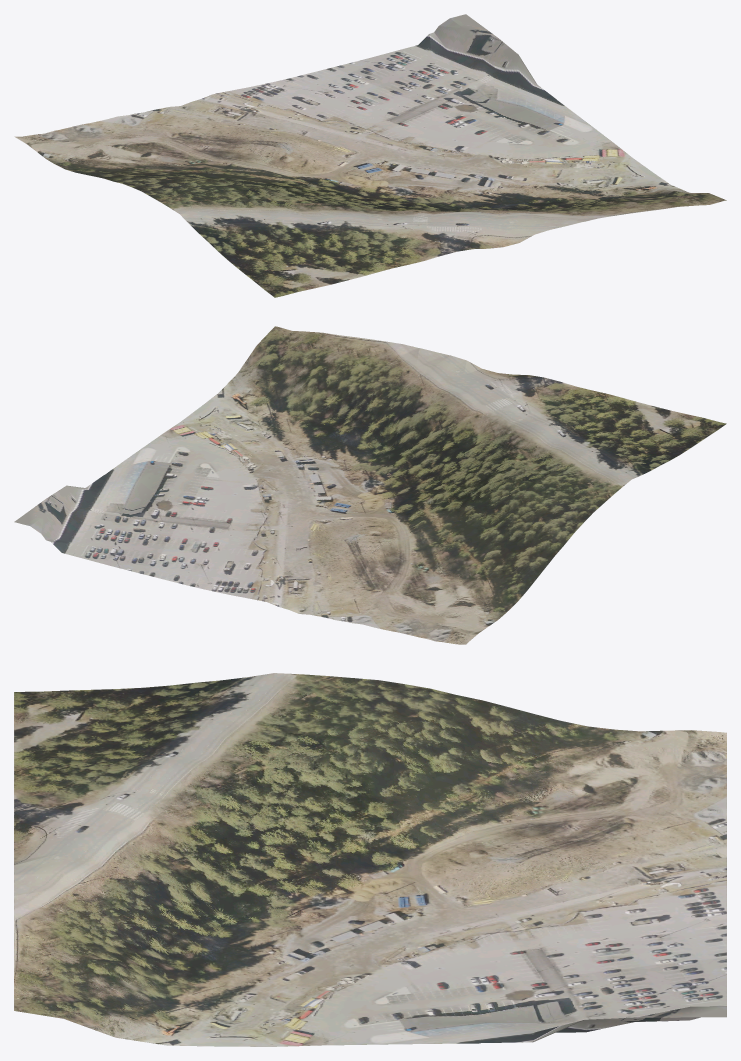
Rendered from CM_Terrain_24490254_6819999.fbx.
The picture shows the model from 3 angles, top to bottom: view 1: azimuth 30°, elevation 25°; view 2: azimuth 150°, elevation 25°; view 3: azimuth 270°, elevation 25°; orthographic projection. The views are drawn at different scales.
Visible parts, largest first — view 1: CM_Terrain_24490254_6819999_LOD0; view 2: CM_Terrain_24490254_6819999_LOD0; view 3: CM_Terrain_24490254_6819999_LOD0.
Part boxes in pixels (bbox=[...]): CM_Terrain_24490254_6819999_LOD0: bbox=[14, 14, 726, 297]; CM_Terrain_24490254_6819999_LOD0: bbox=[14, 326, 726, 644]; CM_Terrain_24490254_6819999_LOD0: bbox=[14, 673, 726, 1046].
Size of what is drawn, in the model's own units: 205 by 25.36 by 205.
